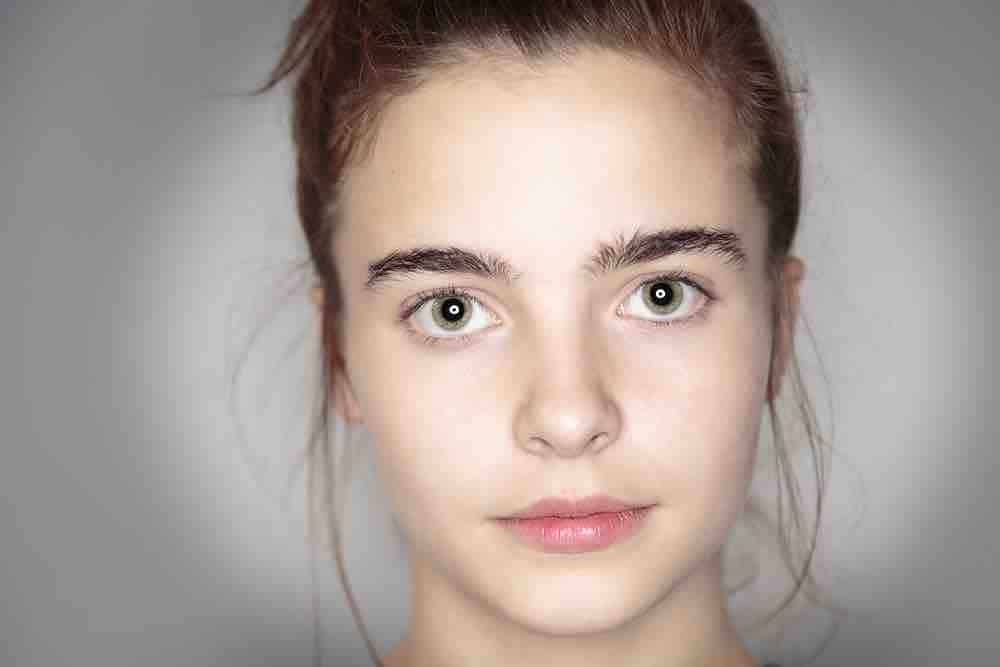without_mask: (337, 151, 808, 636)
